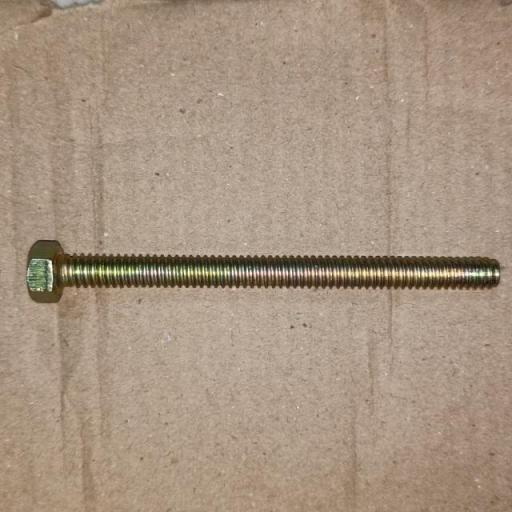Bolt: (27, 240, 502, 304)
